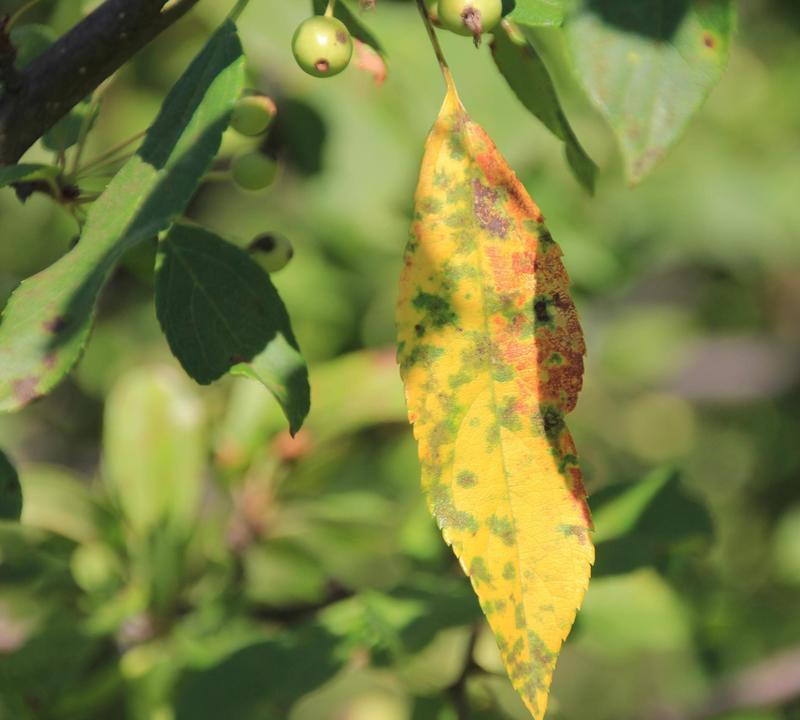Apple Scab Leaf: (386, 82, 609, 720)
